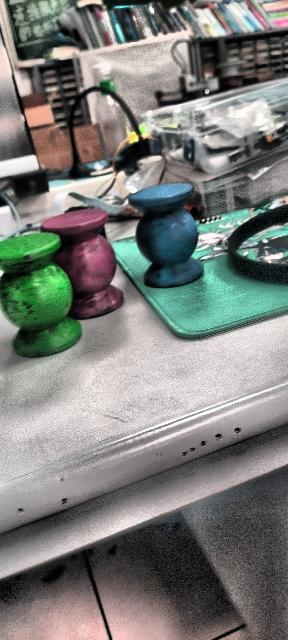blue: (128, 182, 204, 288)
green: (0, 231, 89, 359)
red: (40, 208, 125, 319)
